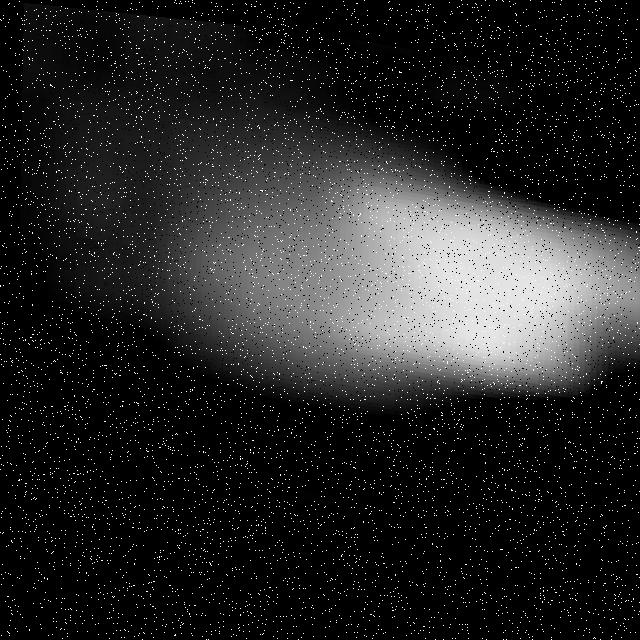person: (151, 94, 640, 429)
